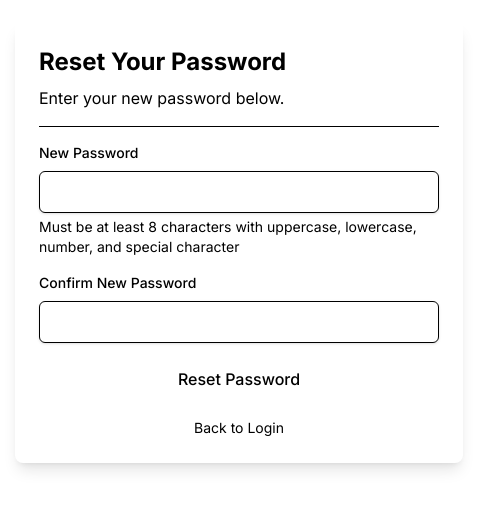
ResetPasswordPage › shows generic error message when API error has no specific message
Expected: the button "Reset Password" is shown, [39,358,439,398]
Type "NewValidPassword123!" into the password field labelled "New Password" at (239, 192), box [39,170,439,212]
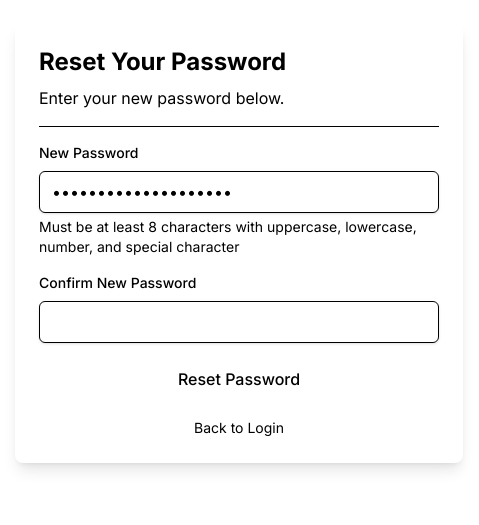
Type "NewValidPassword123!" into the password field labelled "Confirm New Password" at (239, 322), box [39,300,439,342]
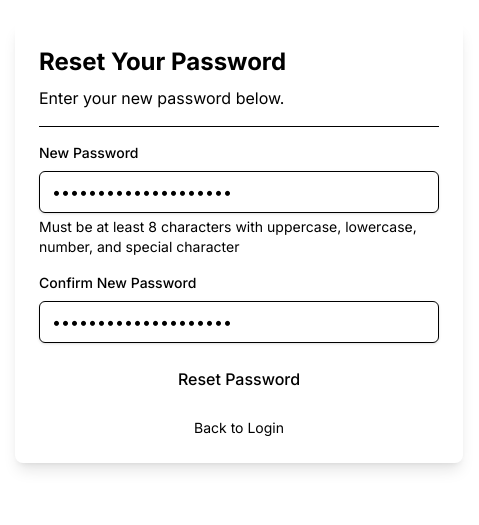
Click the button "Reset Password" at (239, 378), box [39,358,439,398]
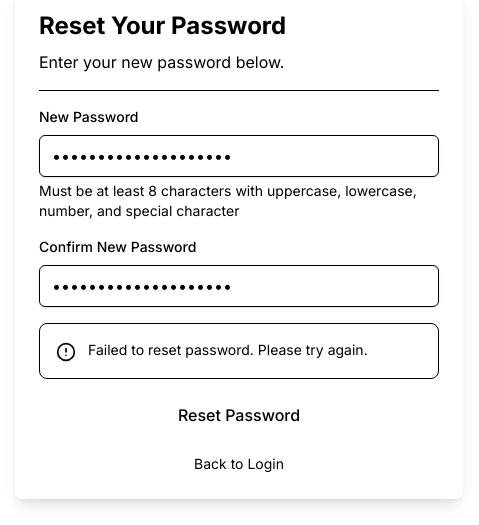
Result: the text "Failed to reset password. Please try again." is shown at [88,340,368,358]
